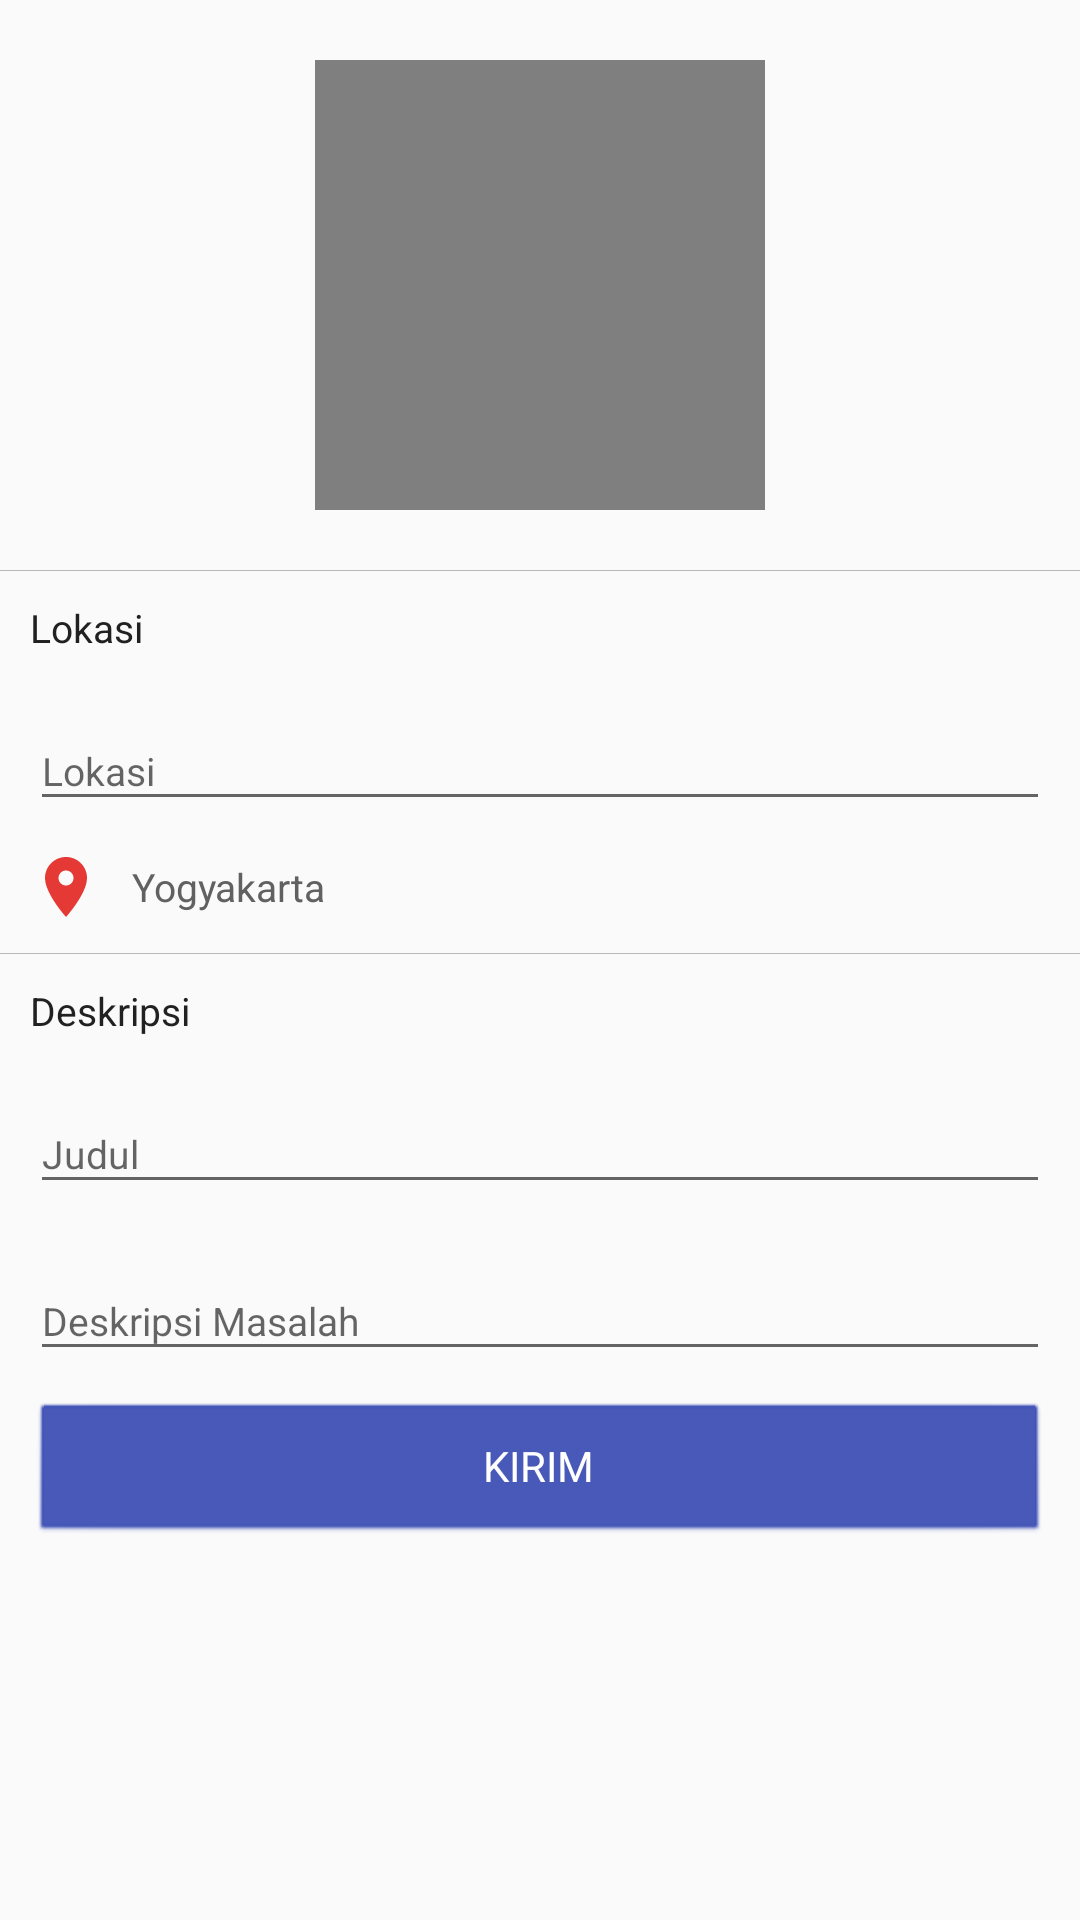

Where to tap for icons on this 1080px x 1920px app screen, as (x,y):
location on: (66,887)
